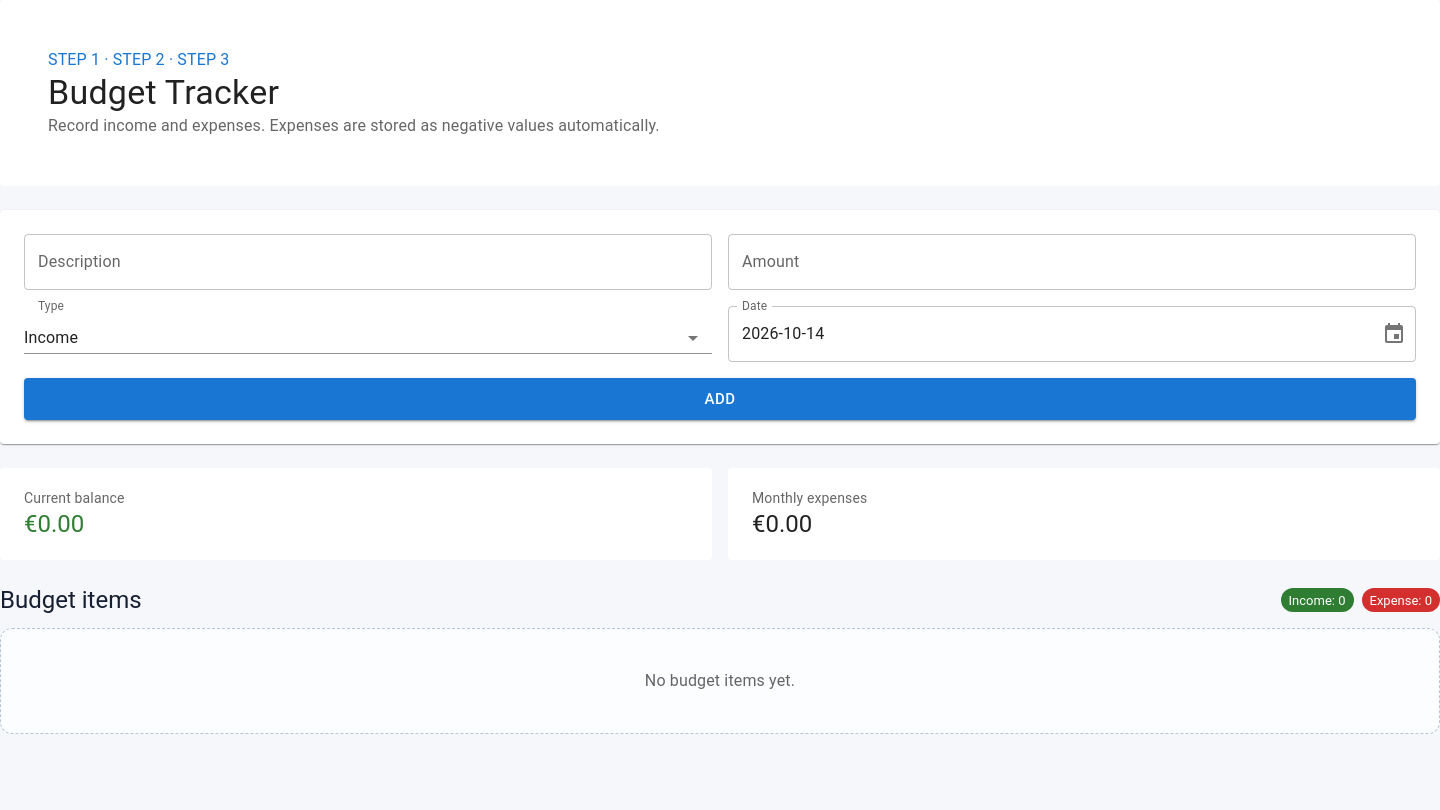
it: BudgetTracker form › shows validation errors and does not submit an empty form
The width and height of the screenshot is (1440, 810).
Click the button "Add" at x=720, y=399, box [24,378,1416,420]
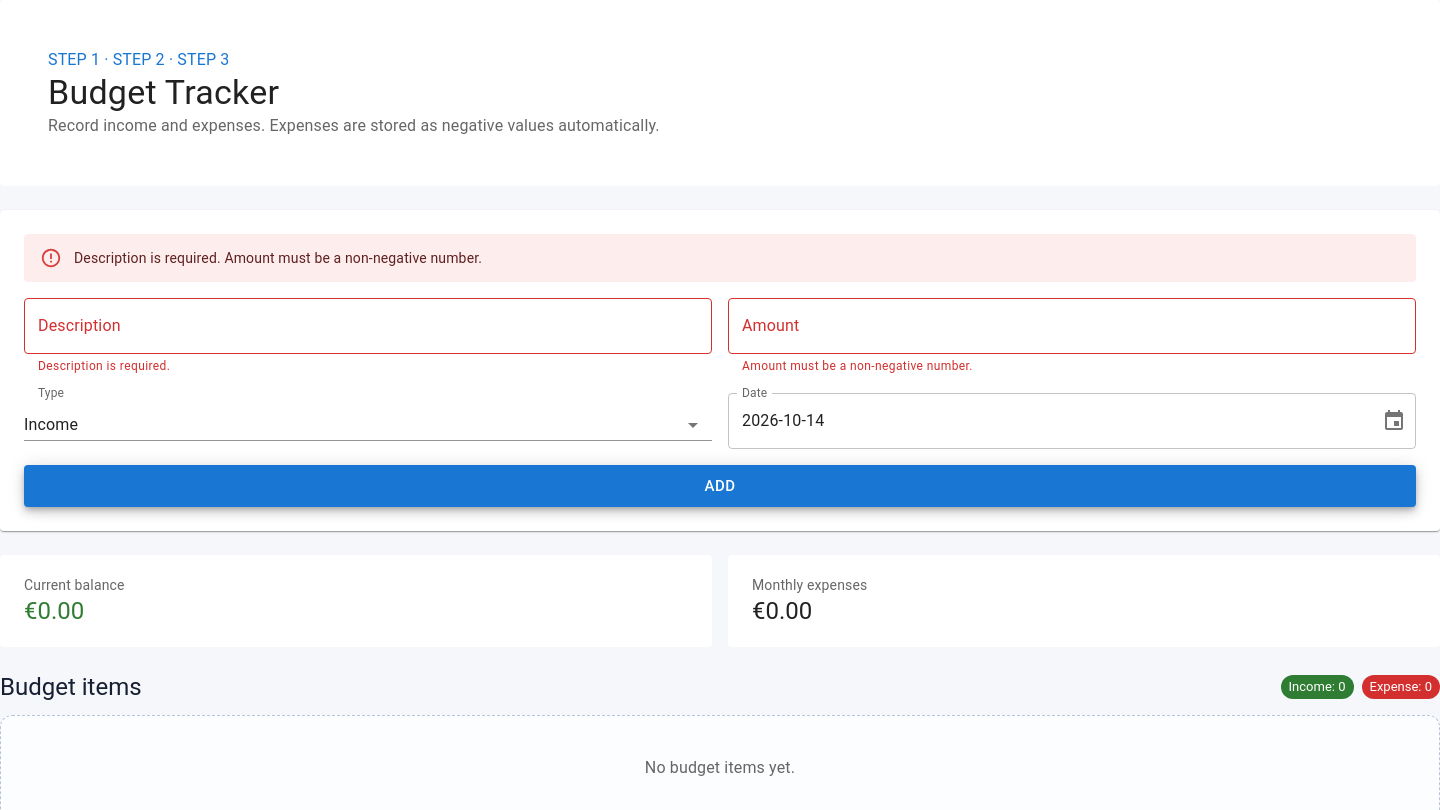
Result: the message shows "Description is required." at [74,250,482,266]
